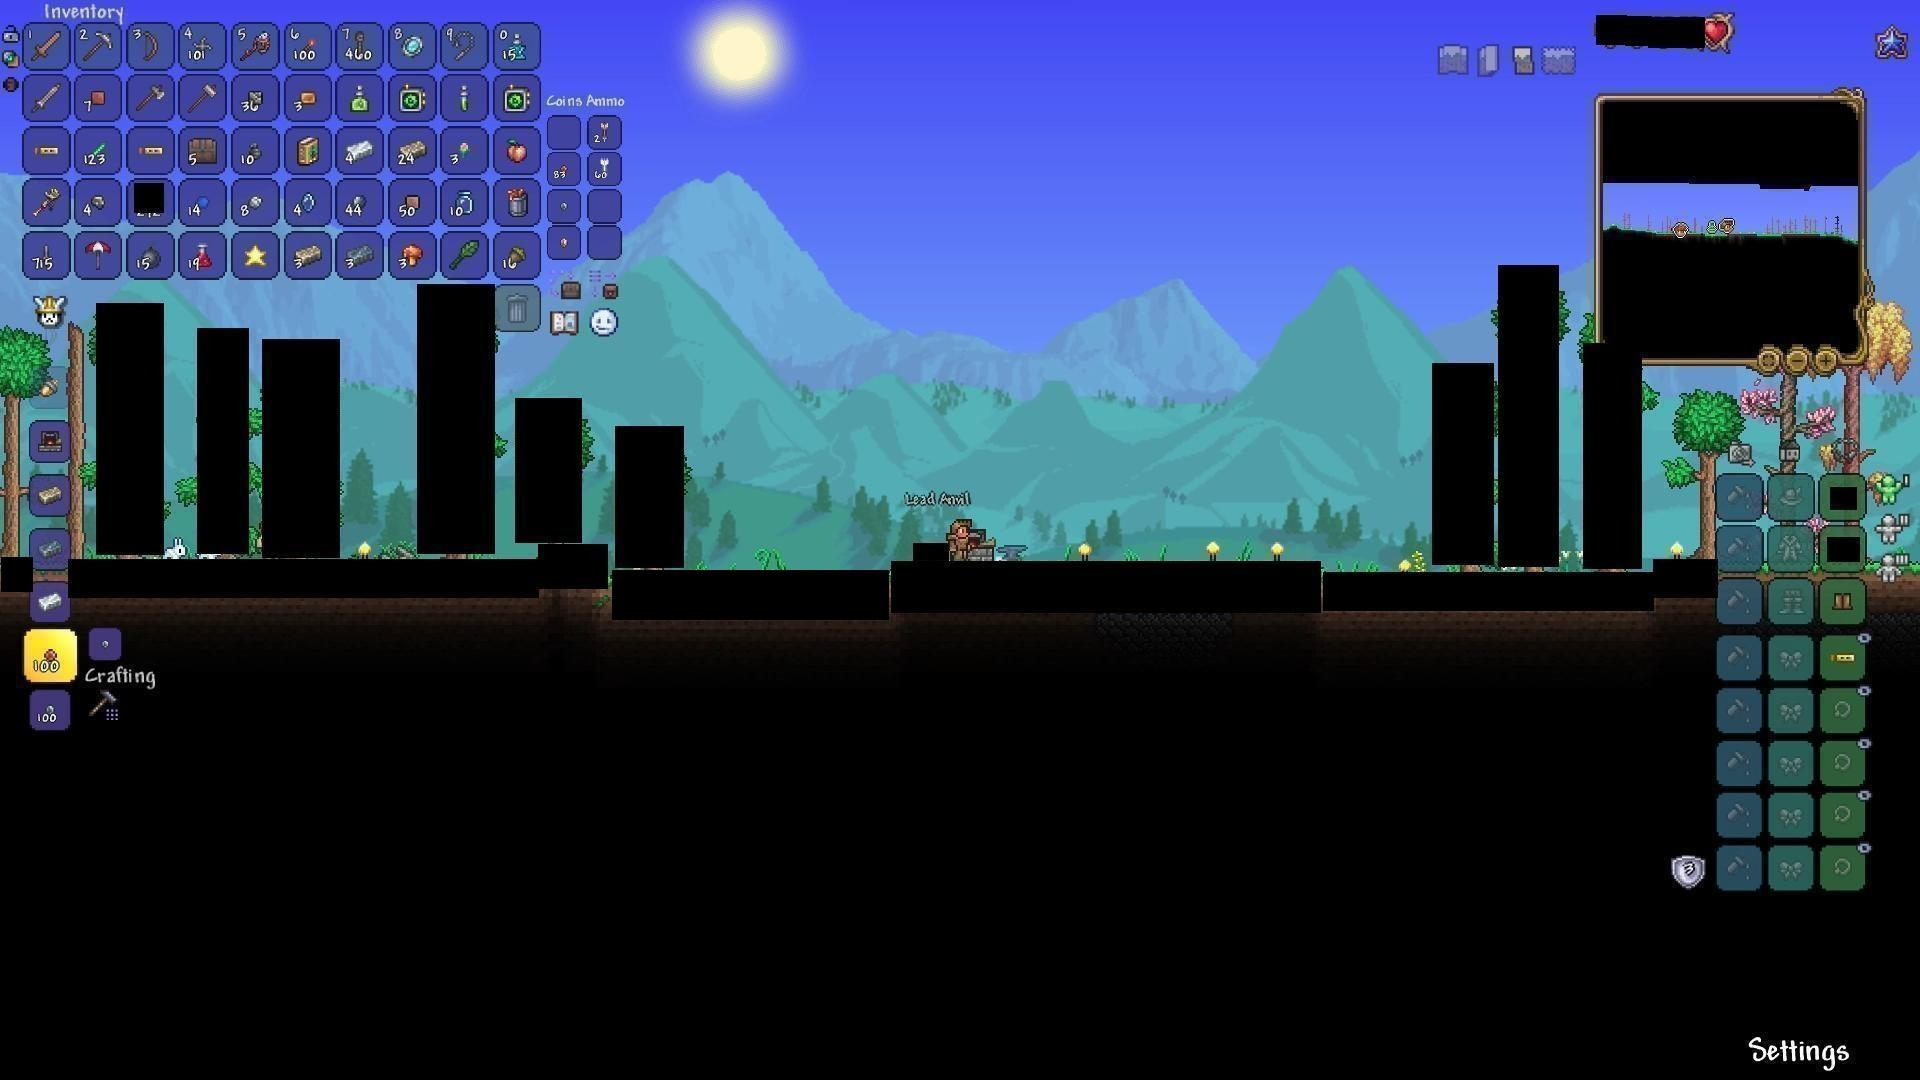heart: (1702, 17, 1731, 47)
legs: (1830, 588, 1857, 615)
tree: (1671, 394, 1727, 556), (59, 313, 94, 556), (0, 324, 32, 555)
